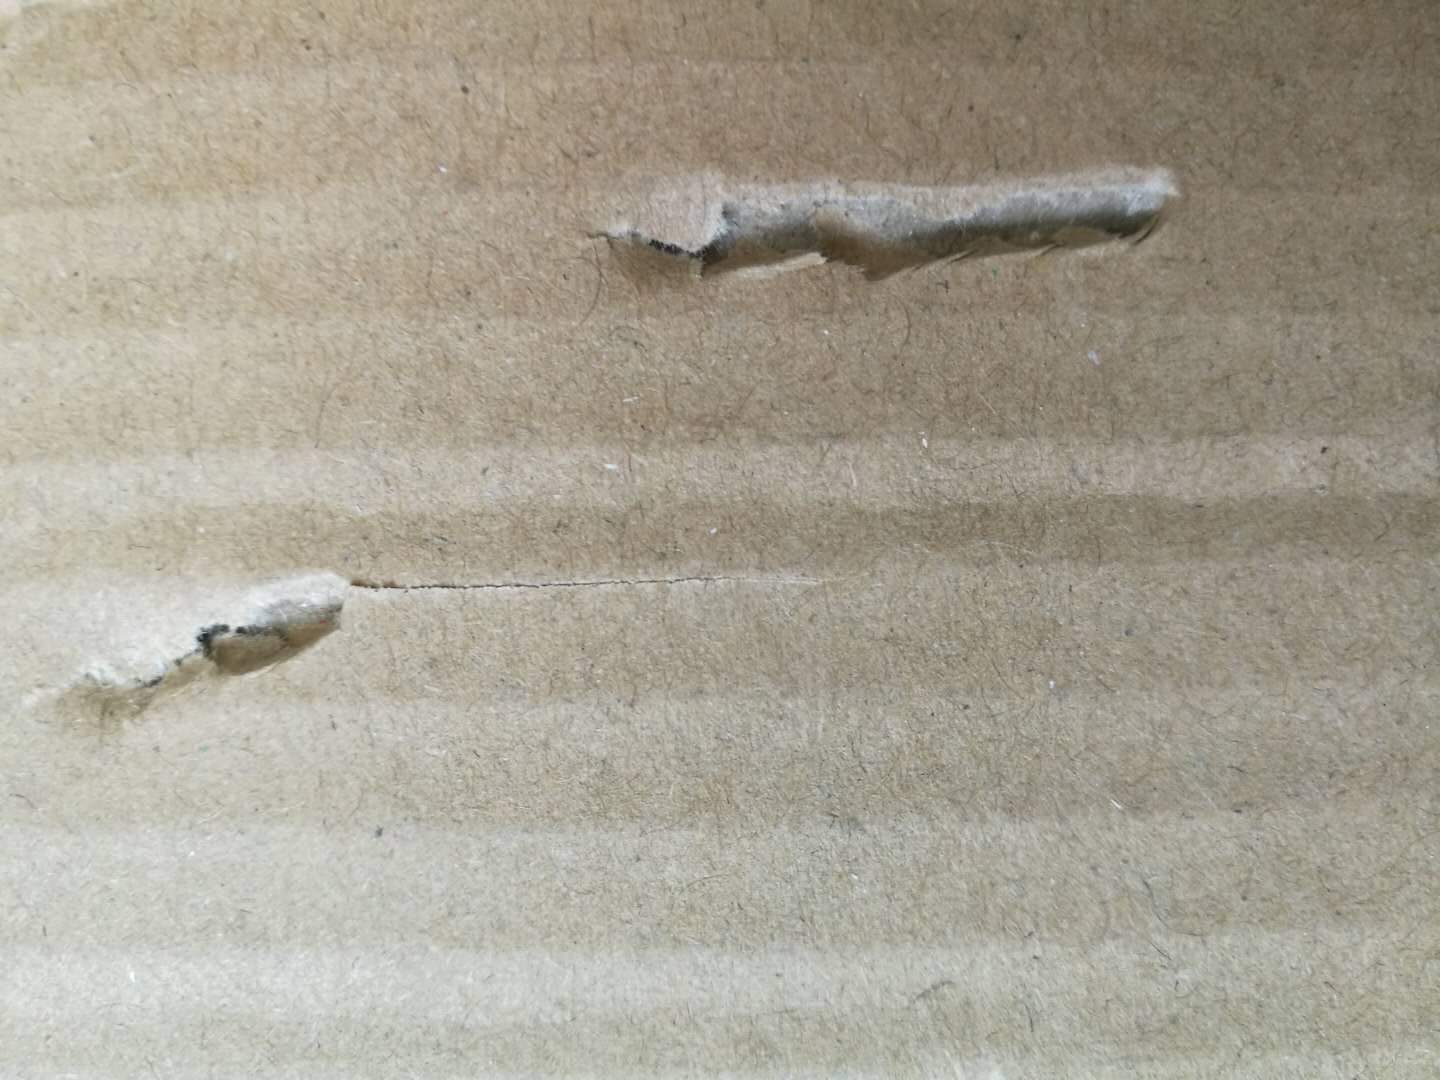defect: (16, 540, 870, 735), (554, 133, 1214, 339)
